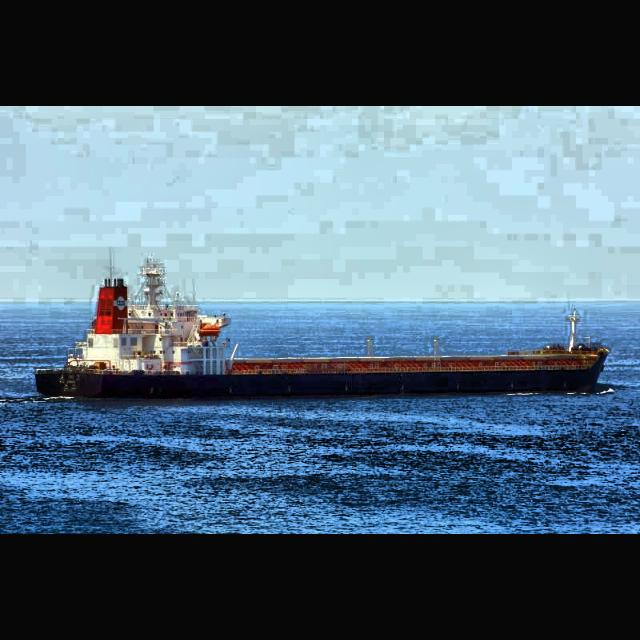bulk_carrier: (36, 255, 610, 401)
